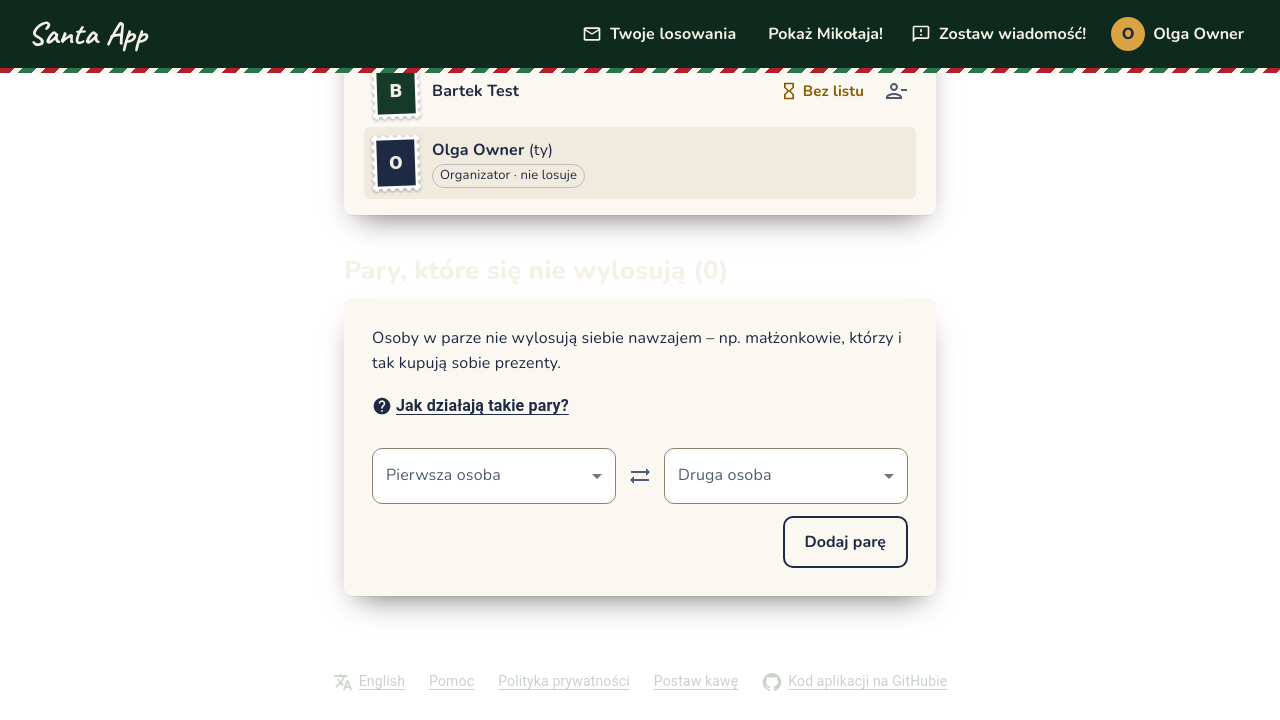
it: DrawPage › does not offer a non-playing organizer in exclusion pickers
(page scrolled)
Step 1. Click the dropdown named "Pierwsza osoba" next to "Pierwsza osoba" → (494, 476), box [372, 448, 616, 504]
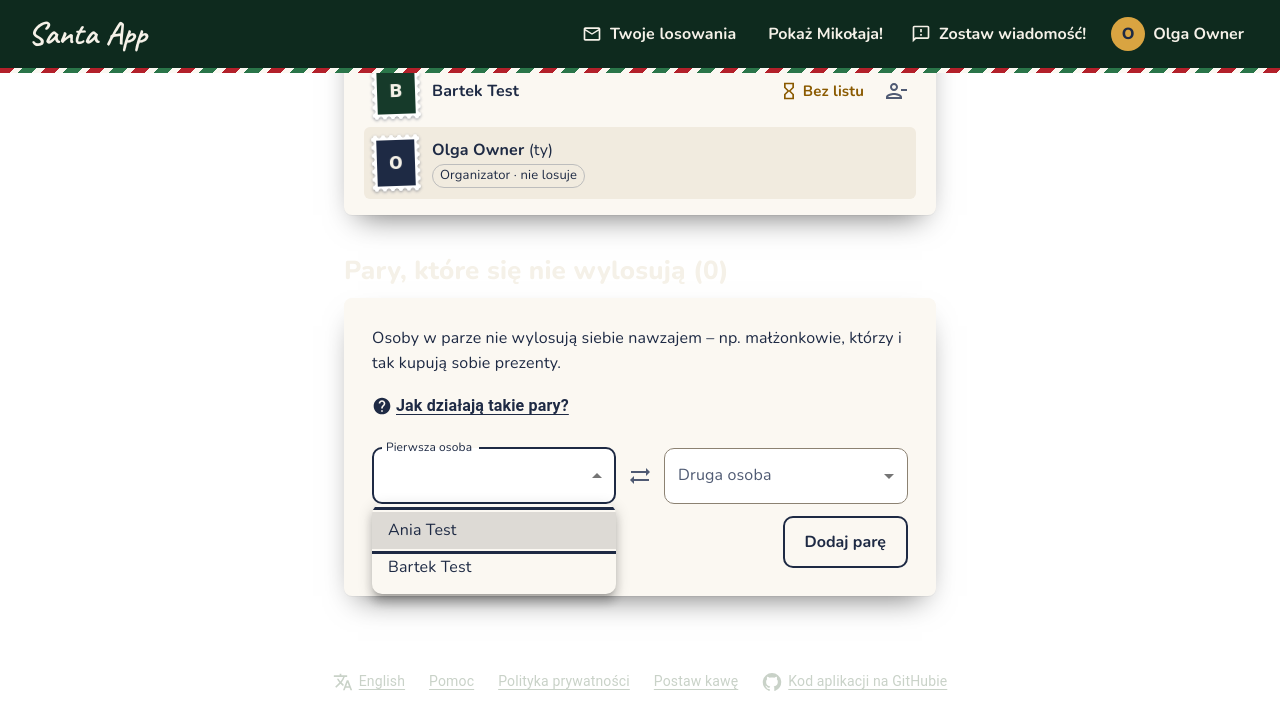
expect the options read "Ania Test", "Bartek Test", in this order: met, box [372, 512, 616, 549]; [388, 556, 471, 578]
